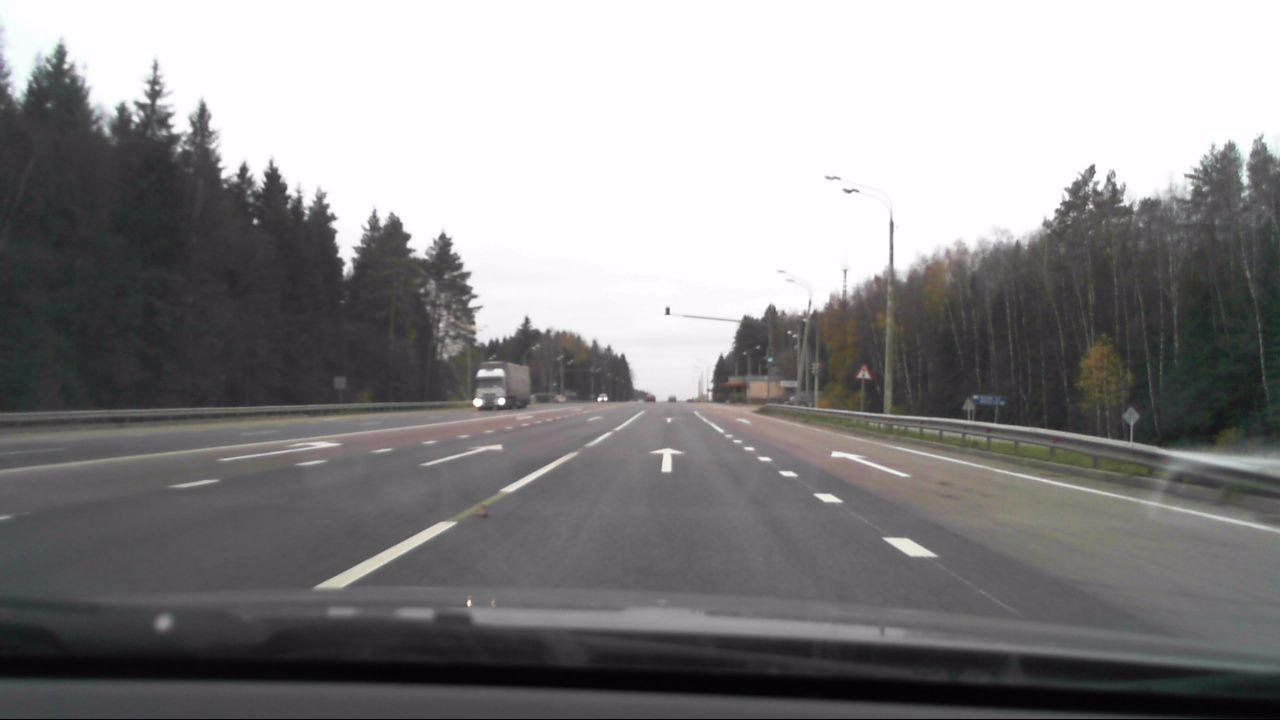1_8: (851, 362, 874, 382)
